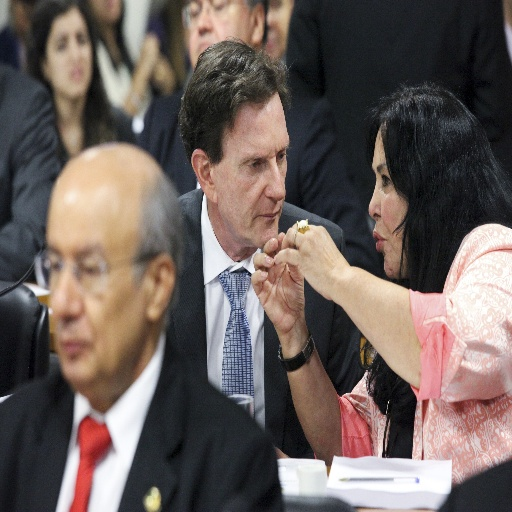hand: (288, 218, 370, 308), (250, 228, 306, 335), (137, 29, 157, 80), (153, 50, 173, 94)
